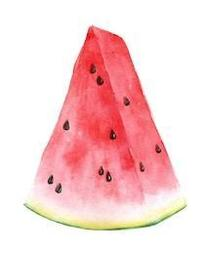watermelon: (24, 27, 190, 230)
